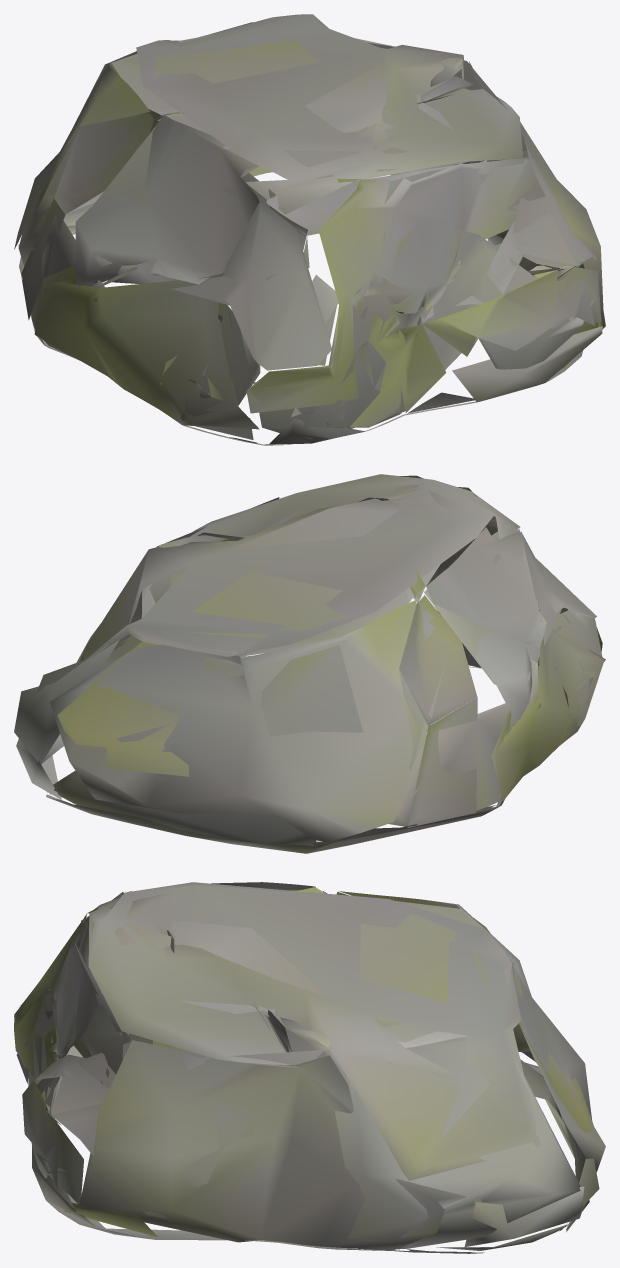
The model's file is Rock_game.glb.
The picture shows the model from 3 angles, top to bottom: view 1: azimuth 30°, elevation 25°; view 2: azimuth 150°, elevation 25°; view 3: azimuth 270°, elevation 25°; orthographic projection. The views are drawn at different scales.
Visible parts, largest first — view 1: Rock; view 2: Rock; view 3: Rock.
Boxes of the visible parts, bbox=[...] form: Rock: bbox=[14, 14, 605, 445]; Rock: bbox=[14, 474, 605, 853]; Rock: bbox=[14, 882, 605, 1253].
Bounding box in the file's own units: 0.9024 × 0.427 × 1.02.
